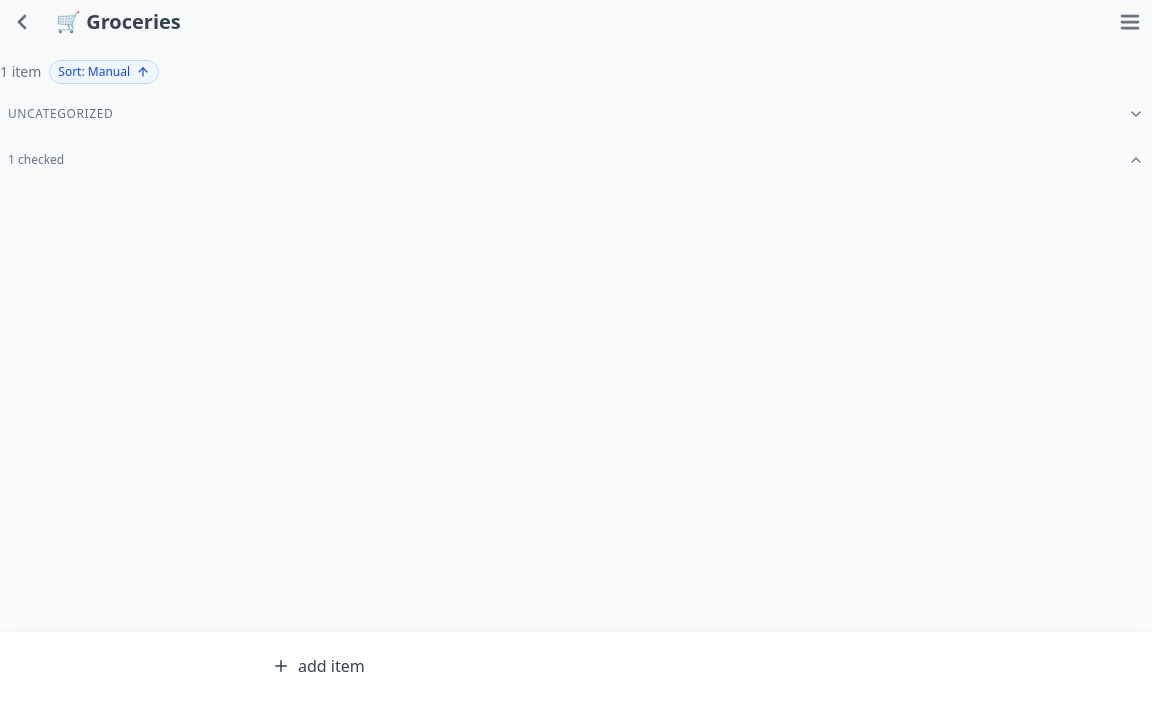
Scenario: ListPage menu presentation › does not delete checked items when the confirmation modal is canceled
The width and height of the screenshot is (1152, 720).
Click the button named "List options": (1130, 22) [1108,0,1151,44]
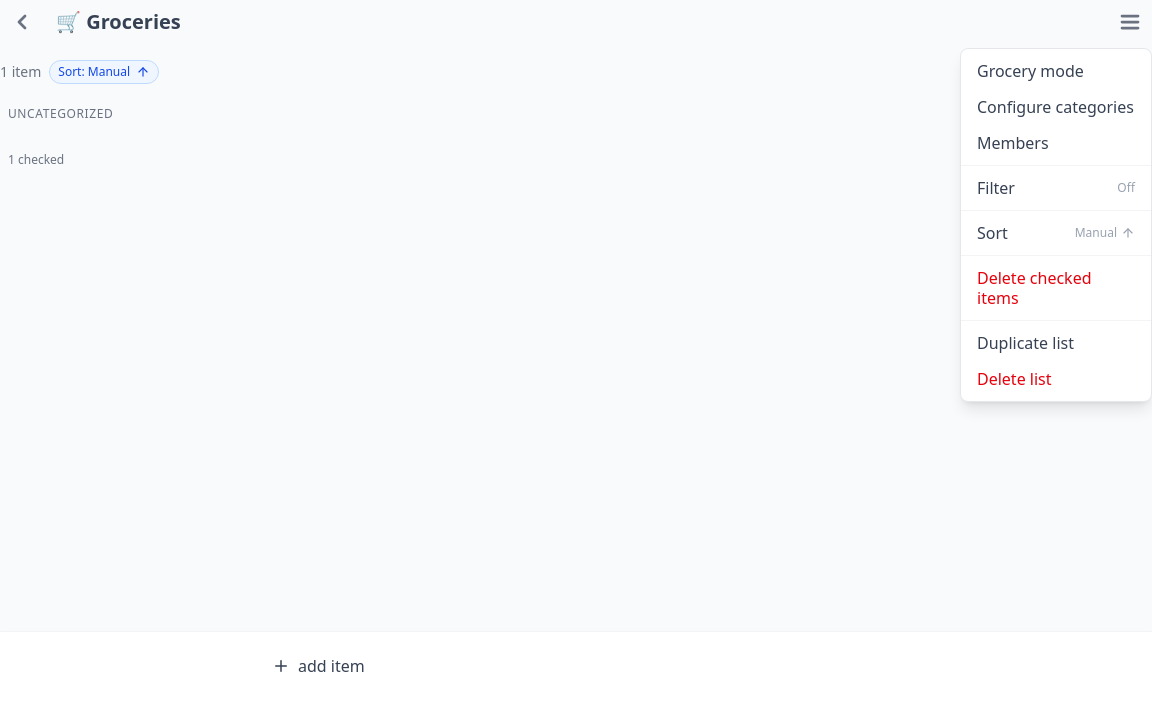
Click the button "Delete checked items": (1056, 288) [961,260,1151,316]
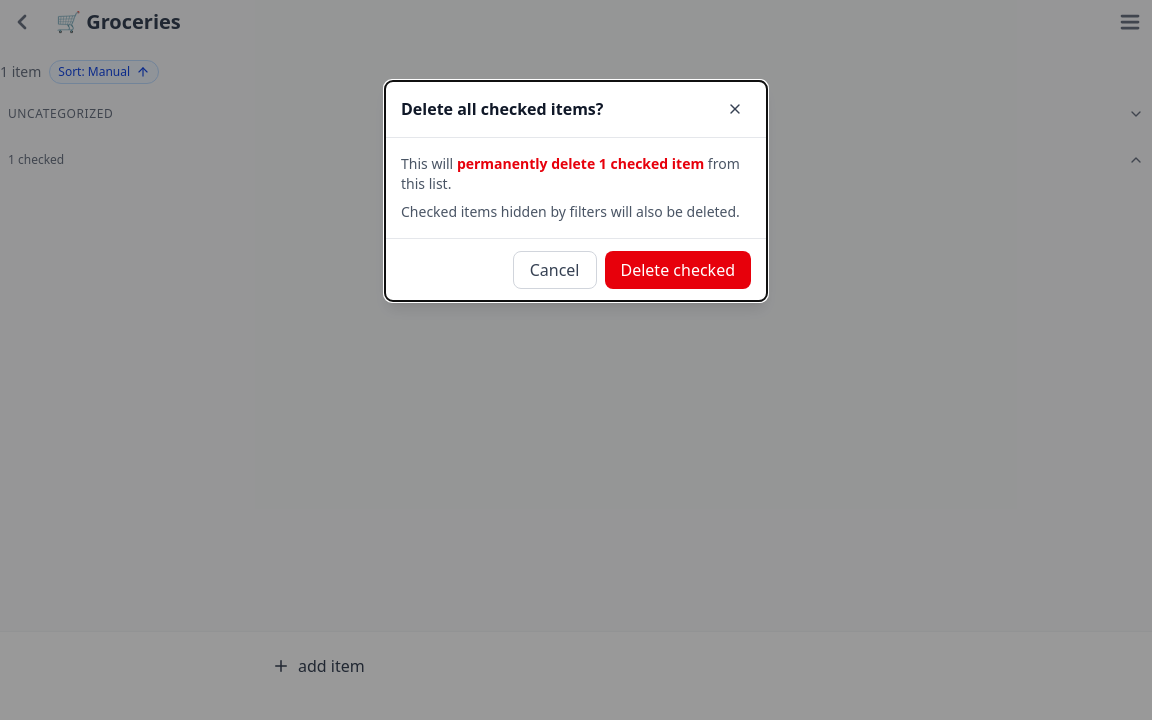
Click the button "Cancel": (555, 270) [513,251,596,289]
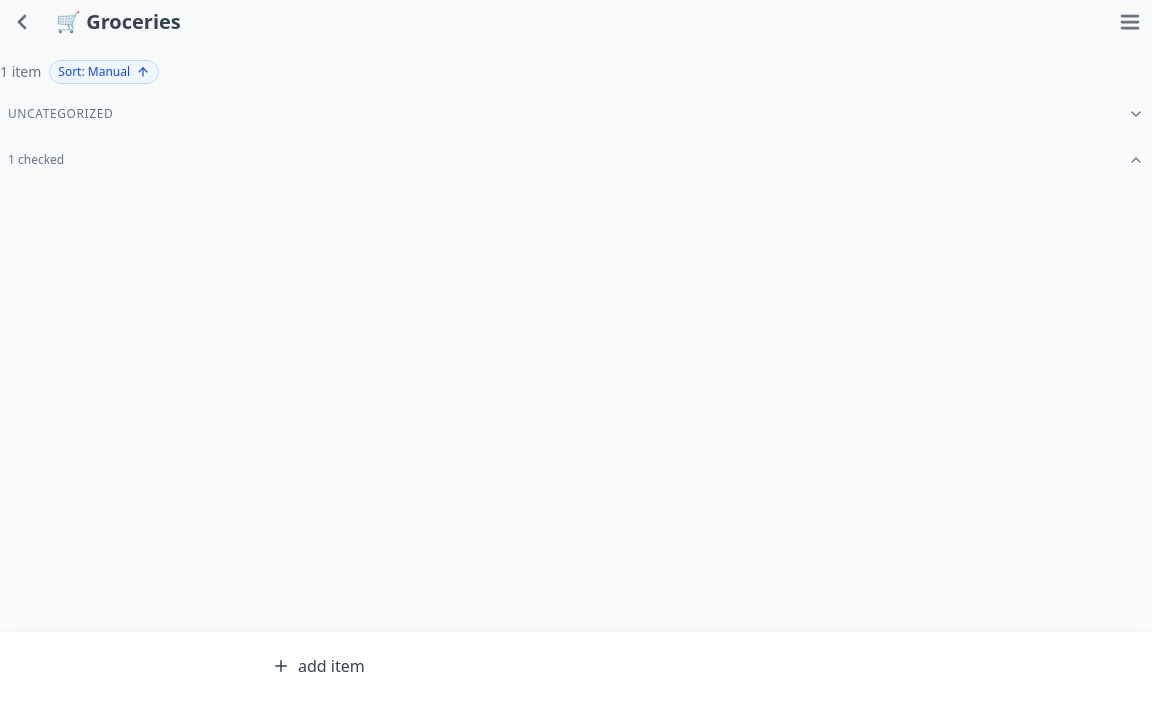
Expected: the heading "Delete all checked items?" is gone
